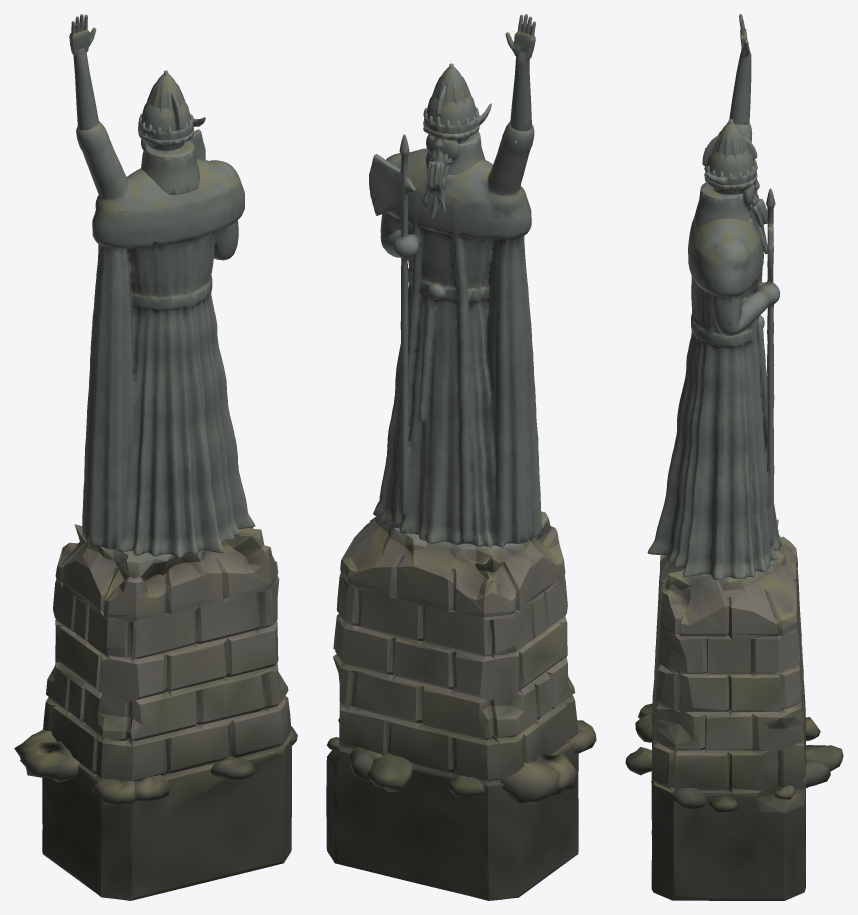
The model's file is argonath.glb.
3 views of the same model, side by side, from view 1: azimuth 30°, elevation 25°; view 2: azimuth 150°, elevation 25°; view 3: azimuth 270°, elevation 25° (orthographic). The views are drawn at different scales.
Visible parts, largest first — view 1: lod0, helm_lod0, crown_lod0; view 2: lod0, crown_lod0, helm_lod0; view 3: lod0, helm_lod0, crown_lod0.
Part boxes in pixels (box(x1,y1,x2,y2)): lod0: box(14, 14, 297, 900); helm_lod0: box(138, 91, 199, 194); crown_lod0: box(138, 70, 205, 165); lod0: box(326, 14, 596, 900); crown_lod0: box(422, 63, 491, 220); helm_lod0: box(423, 85, 485, 175); lod0: box(625, 14, 843, 900); helm_lod0: box(693, 134, 757, 227); crown_lod0: box(704, 119, 767, 254).
Size of what is drawn, in the model's own units: 2.67 by 8.95 by 2.2.
